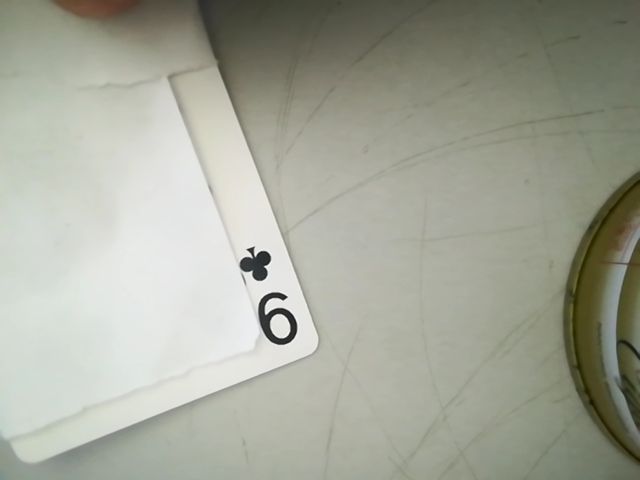mh 9: (232, 234, 301, 353)
